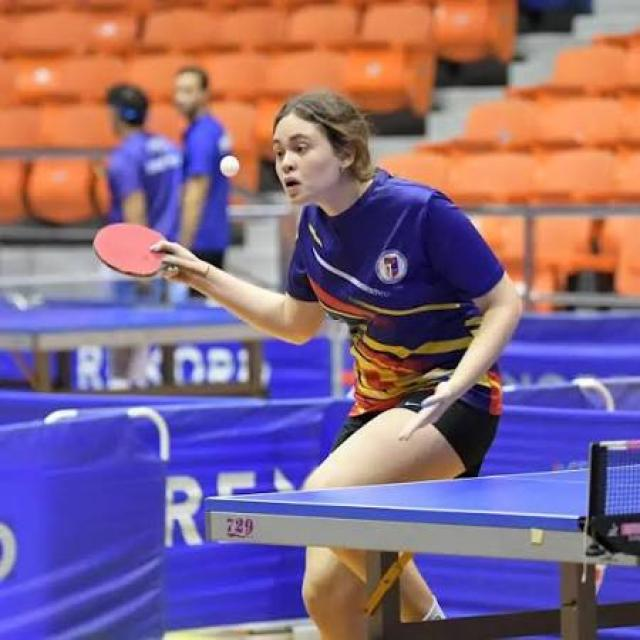TT Net: (593, 435, 639, 538)
TT Racket: (80, 212, 180, 283)
TT Table: (207, 462, 639, 530)
